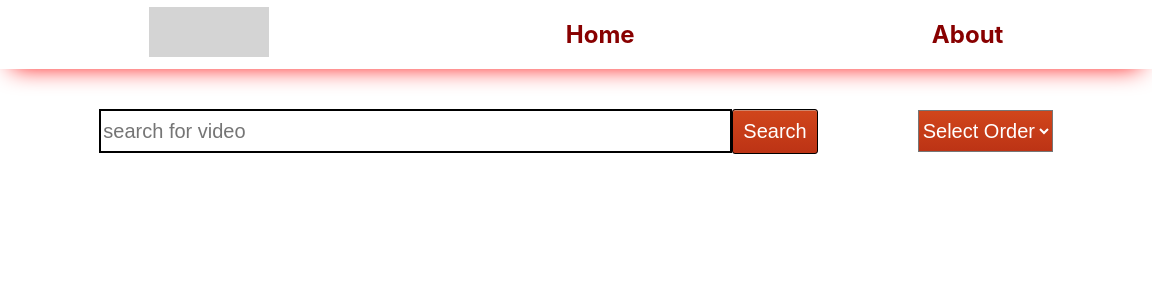
Scenario: Home Page: › check to see if empty Search works
The image size is (1152, 283).
Click the button "Search" at (775, 132), box [732,109,817,154]
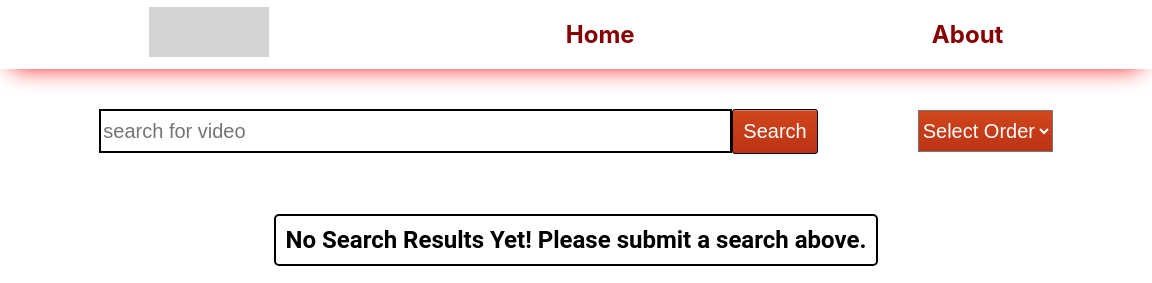
Expected: the heading "No Search Results Yet!" is shown, [286,226,867,254]
